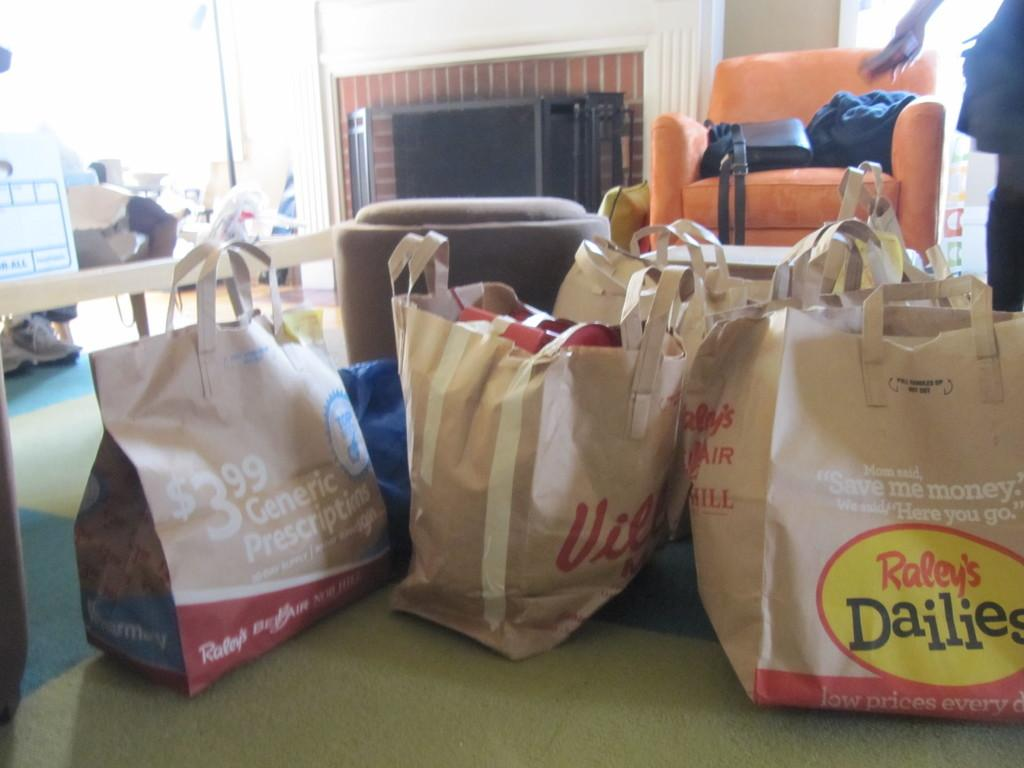Luggage-and-bags: (71, 160, 1023, 725), (371, 209, 721, 641), (701, 116, 817, 181)
